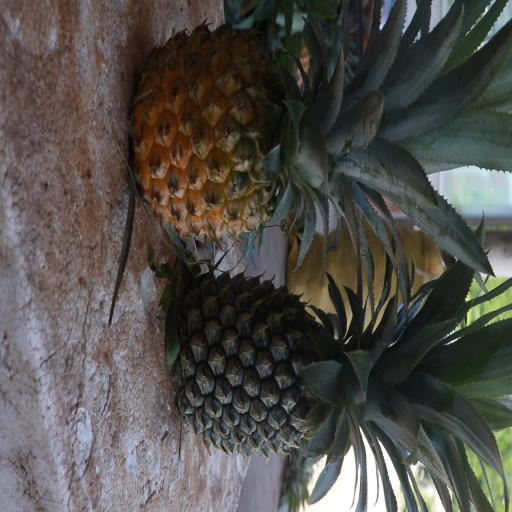Pineapple - v8 v1: (133, 31, 441, 236)
